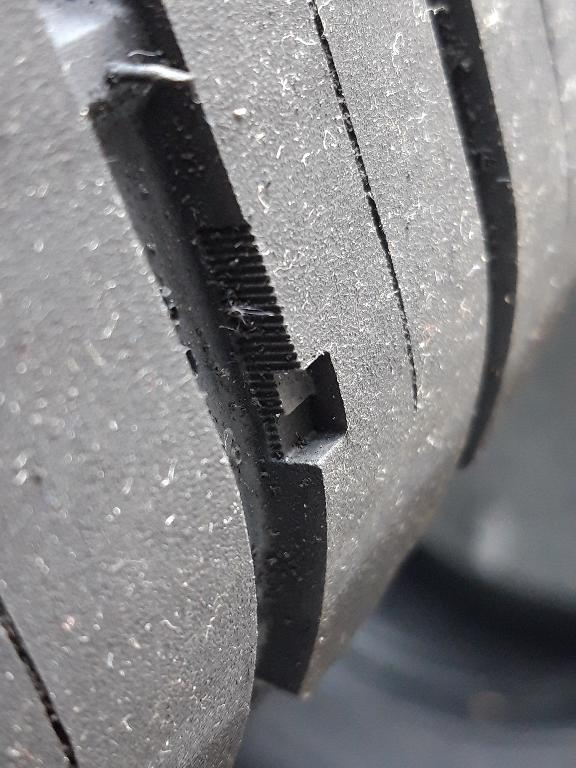temoin:50: (226, 322, 356, 476)
